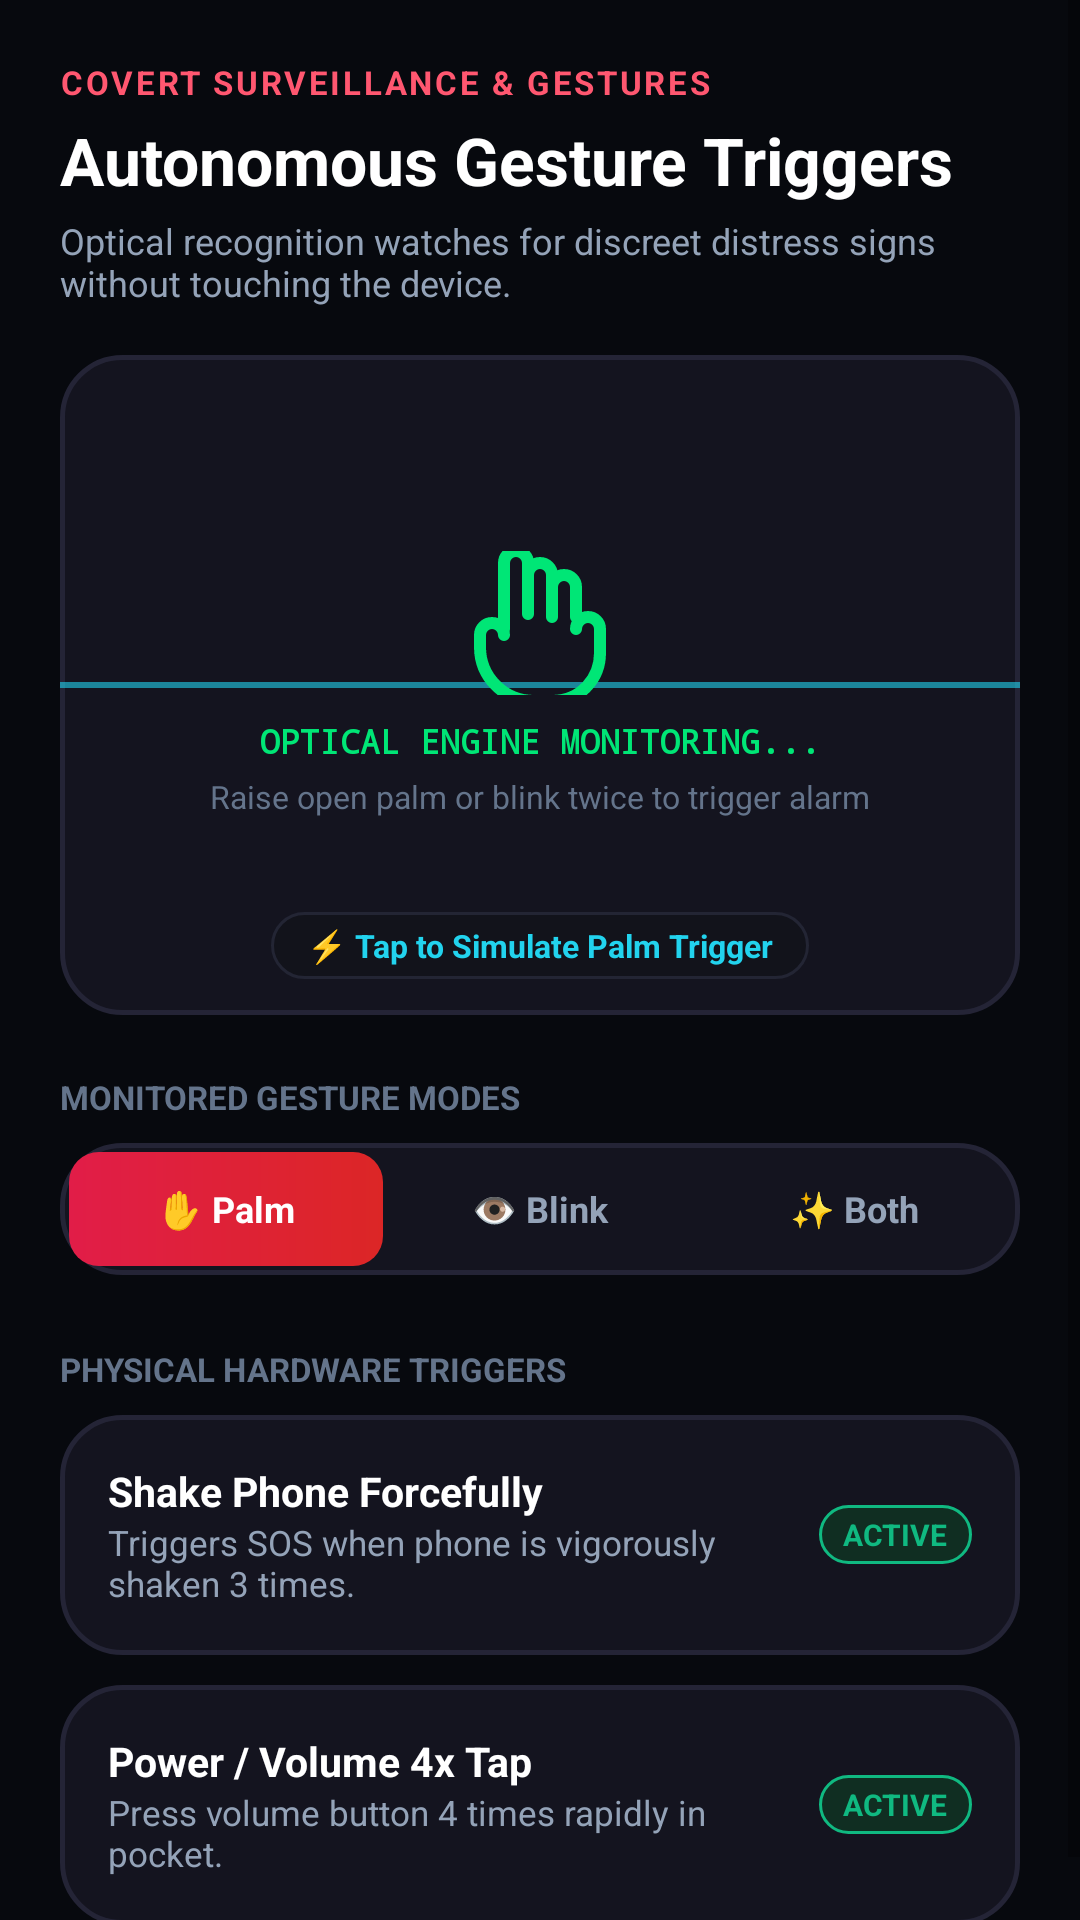

Point at icon controls on the screen. Image size 1080px×1920px, points as (x,y).
hand nav: (540,623)
